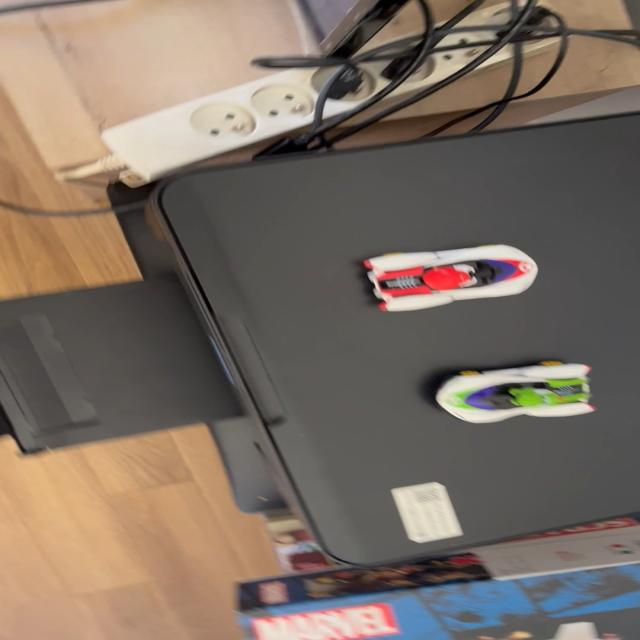mario: (347, 240, 551, 320)
yoshi: (426, 354, 614, 431)
